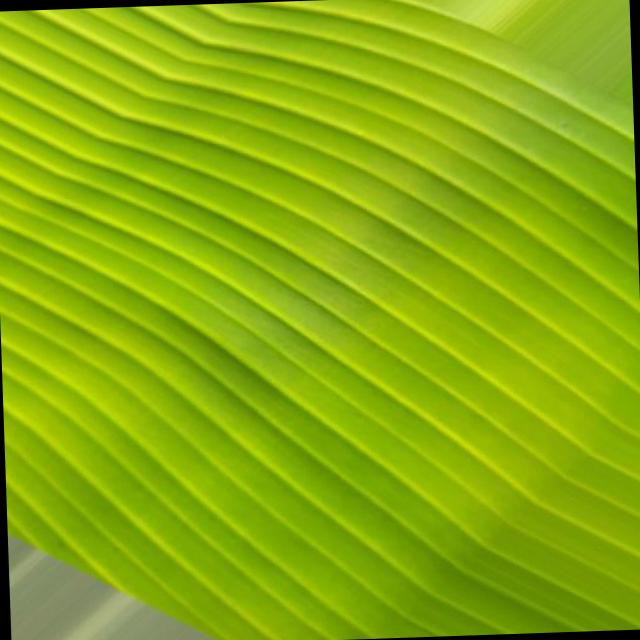Banana_Healthy: (110, 64, 556, 456)
